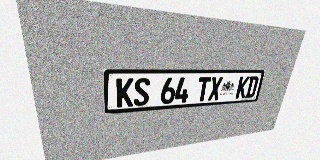4: (174, 77, 190, 103)
6: (160, 77, 176, 104)
D: (245, 76, 259, 98)
K: (116, 78, 134, 108), (235, 76, 250, 99)
S: (134, 78, 150, 106)
T: (196, 77, 211, 102)
X: (208, 77, 223, 101)
